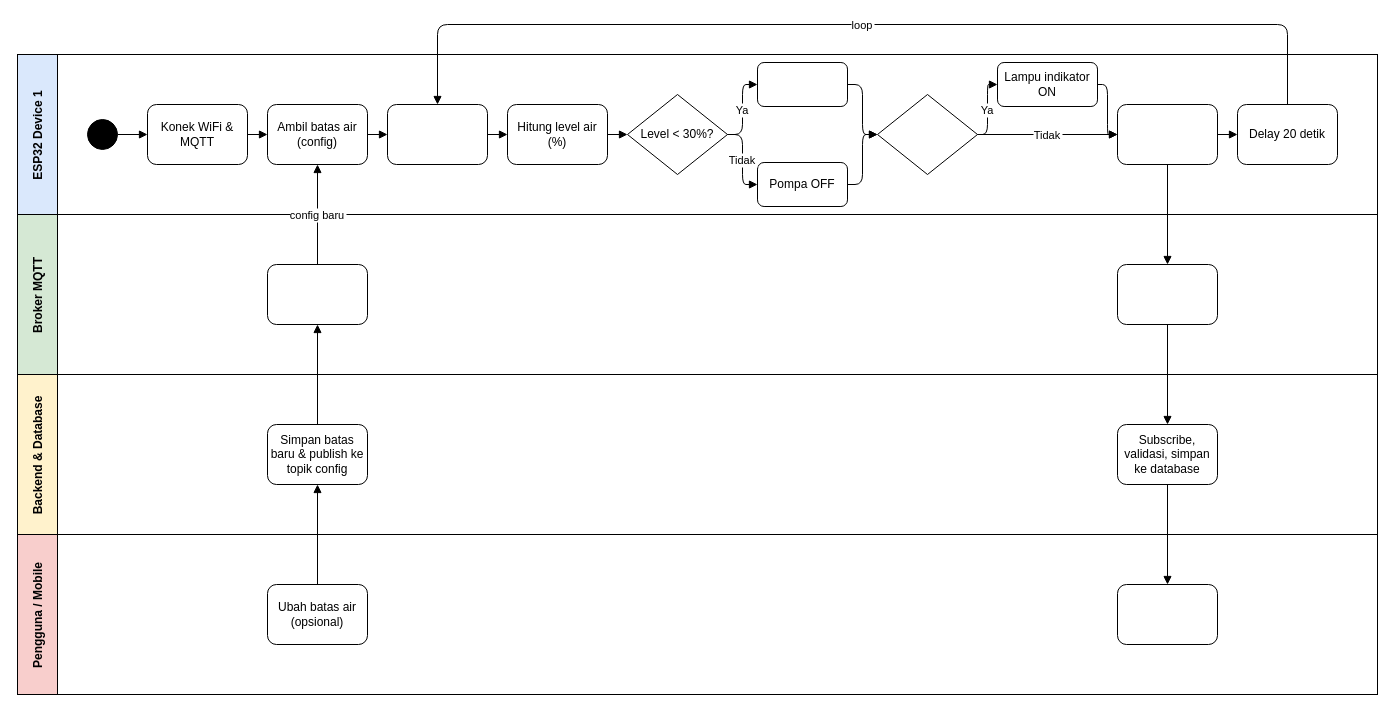
Some shapes in this 1395 by 712 pixel diagram are drawn without their labels. Here are the shapes that lost their labels. From the top down, the centre of each, then its label:
At pixel 802 84: "Pompa ON (relay)".
At pixel 437 134: "Baca sensor ultrasonik & DS18B20".
At pixel 927 134: "Suhu > 30°C?".
At pixel 1167 134: "Publish data (level, suhu, status pompa)".
At pixel 317 294: "Teruskan config (retained)".
At pixel 1167 294: "Terima & teruskan data ke subscriber".
At pixel 1167 614: "Terima data realtime, tampil di dashboard".
